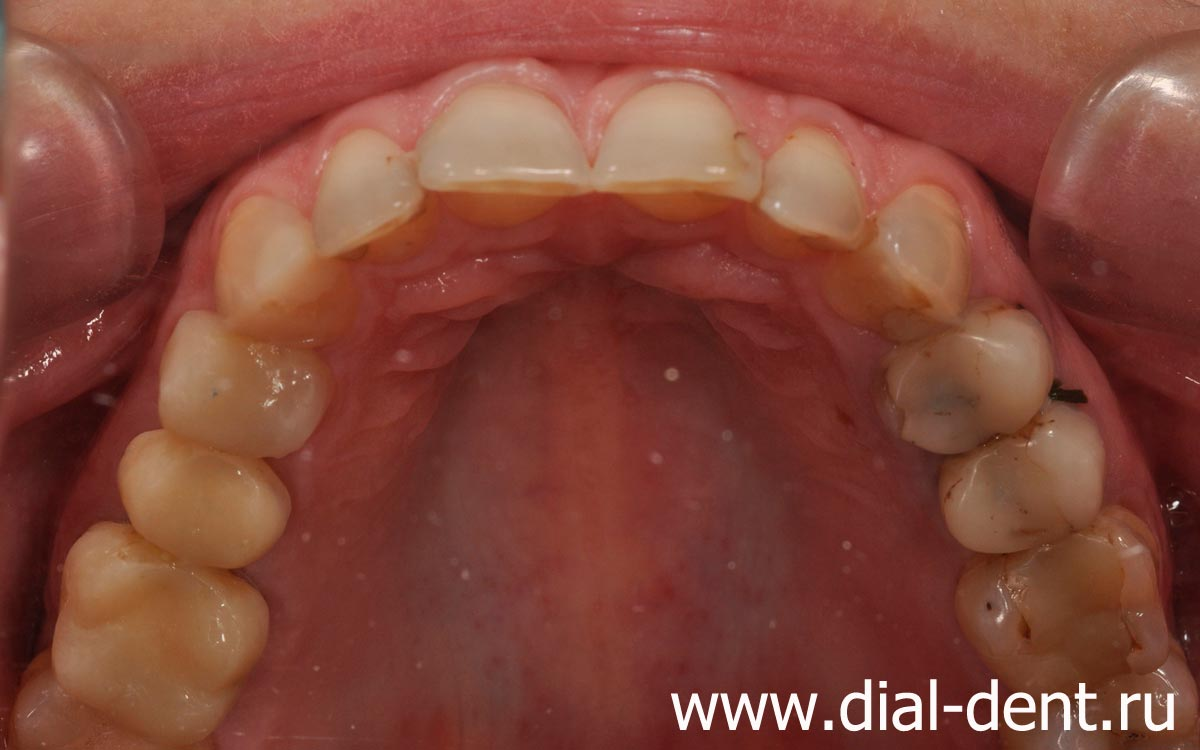UL1BC_decay: (879, 306, 1036, 459)
UL1M_decay: (948, 498, 1162, 670)
UL2BC_decay: (942, 388, 1101, 554)
ULCI_healthy: (592, 85, 754, 223)
ULC_healthy: (831, 187, 974, 335)
ULLI_healthy: (741, 128, 868, 248)
UR1BC_healthy: (154, 315, 331, 460)
UR1M_healthy: (51, 521, 268, 742)
UR2BC_healthy: (119, 426, 289, 576)
URCI_healthy: (414, 70, 591, 213)
URC_healthy: (216, 191, 373, 349)
URLI_healthy: (306, 125, 425, 258)
